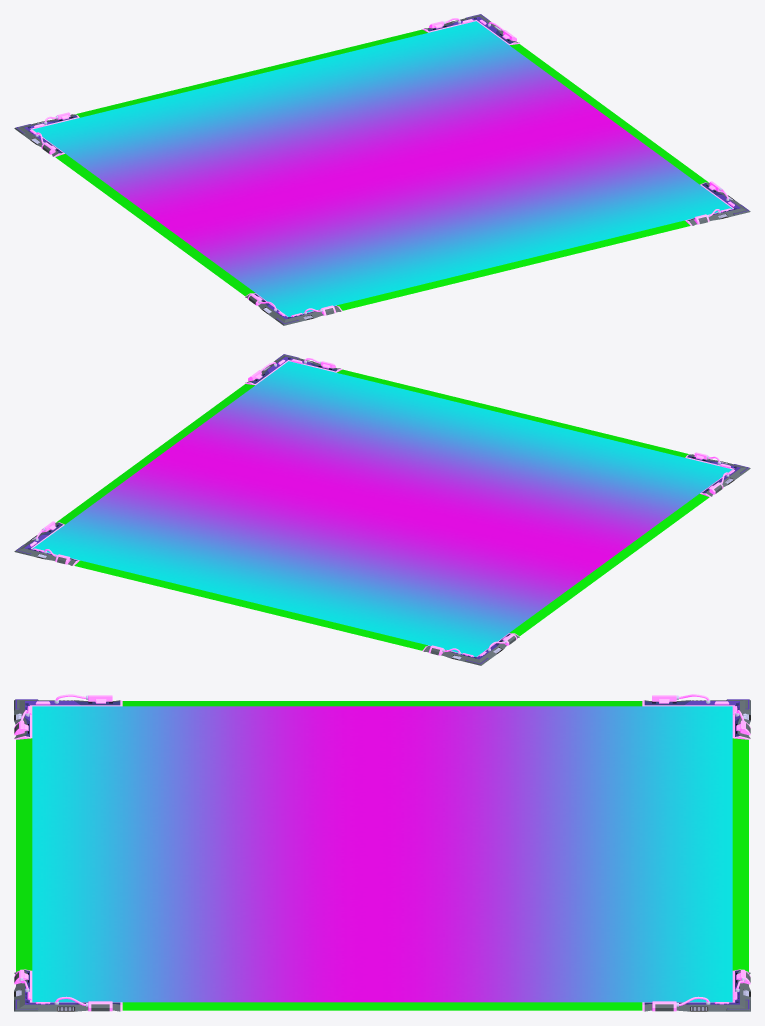
The model's file is NFT_basic_16x16.fbx.
3 views of the same model, one above another, from view 1: azimuth 30°, elevation 25°; view 2: azimuth 150°, elevation 25°; view 3: azimuth 270°, elevation 25° (orthographic). The views are drawn at different scales.
Visible parts, largest first — view 1: _screen_low1, walkways, nft_frame3b_corner6 (×4); view 2: _screen_low1, walkways, nft_frame3b_corner6 (×4); view 3: _screen_low1, walkways, nft_frame3b_corner6 (×4).
Part boxes in pixels (left/top/right/bottom): _screen_low1: left=32, top=21, right=732, bottom=316; walkways: left=55, top=29, right=708, bottom=310; nft_frame3b_corner6 (×4): left=14, top=15, right=750, bottom=325; _screen_low1: left=32, top=361, right=732, bottom=656; walkways: left=56, top=369, right=709, bottom=650; nft_frame3b_corner6 (×4): left=14, top=355, right=750, bottom=665; _screen_low1: left=32, top=706, right=732, bottom=1002; walkways: left=16, top=701, right=748, bottom=1010; nft_frame3b_corner6 (×4): left=14, top=700, right=750, bottom=1011.
Size of the model in its own units: 630 by 9.59 by 630.
10 materials, 1 textured.
